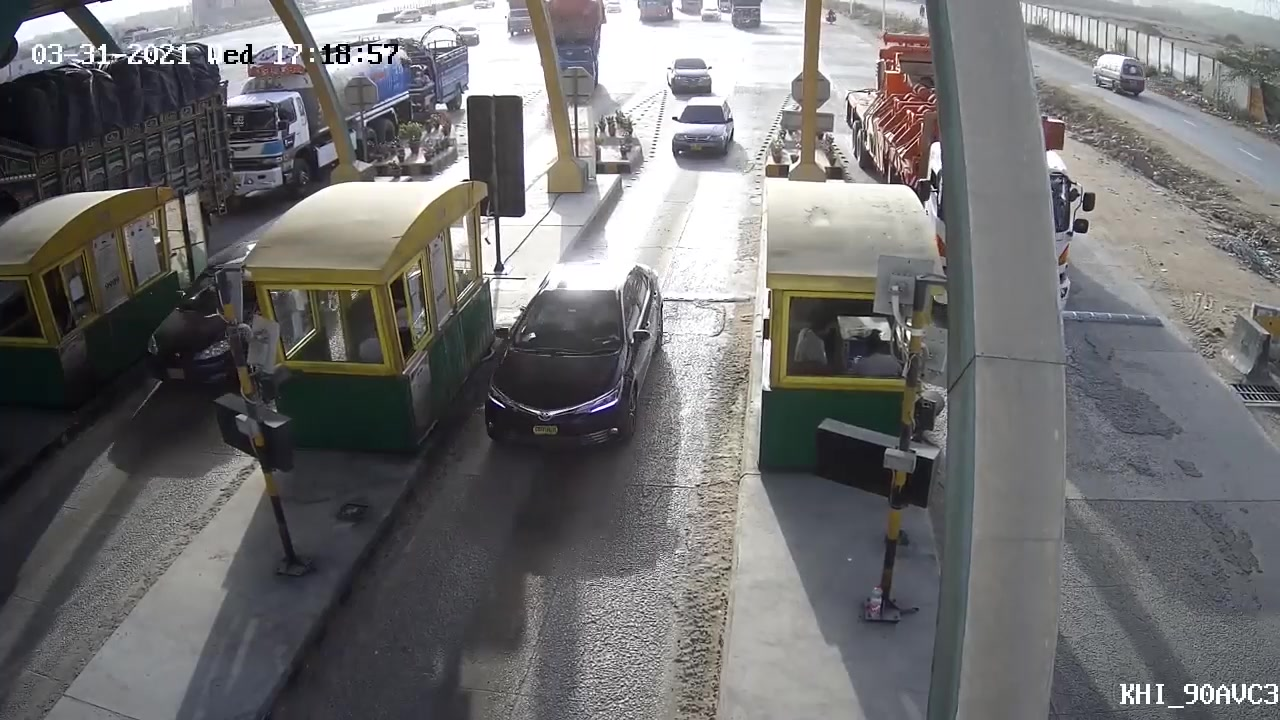F1: (477, 257, 678, 452)
